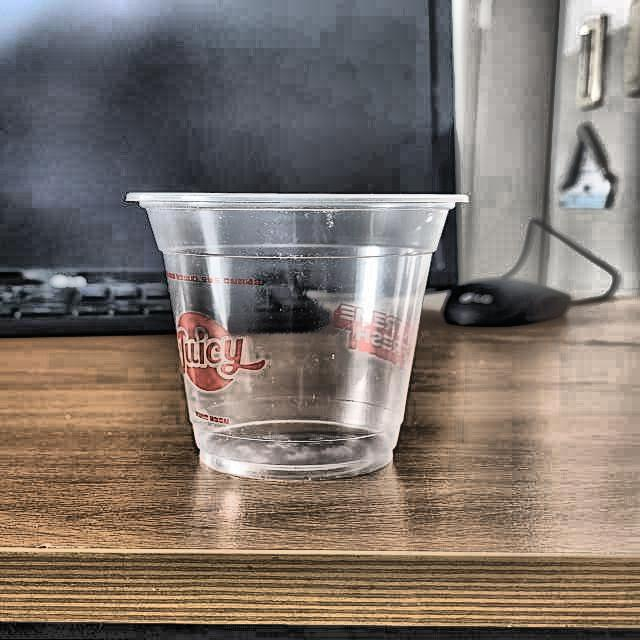plastic cup: (121, 188, 468, 479)
